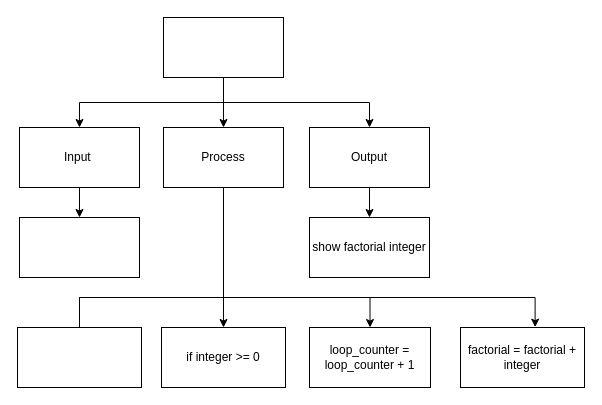
Some shapes in this 602 by 405 pixel diagram are drawn without their labels. The box of each missing label's shape, as (x1, y1, x2, y2) in pixels:
Adding Up Numbers: (162, 16, 284, 78)
check if integer is positive number: (16, 326, 142, 388)
Get integer from user: (18, 216, 140, 278)
